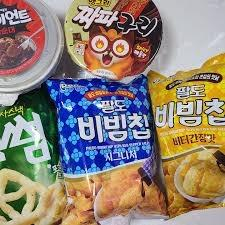snack: (46, 73, 170, 225), (147, 53, 225, 220)
